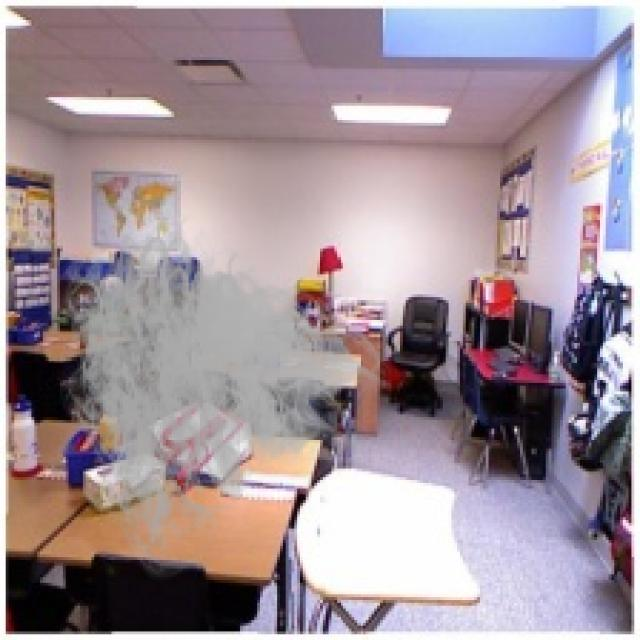smoke: (43, 200, 391, 583)
